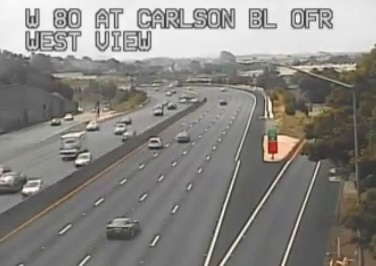car: (106, 218, 138, 237), (147, 137, 162, 148), (176, 132, 189, 142)
